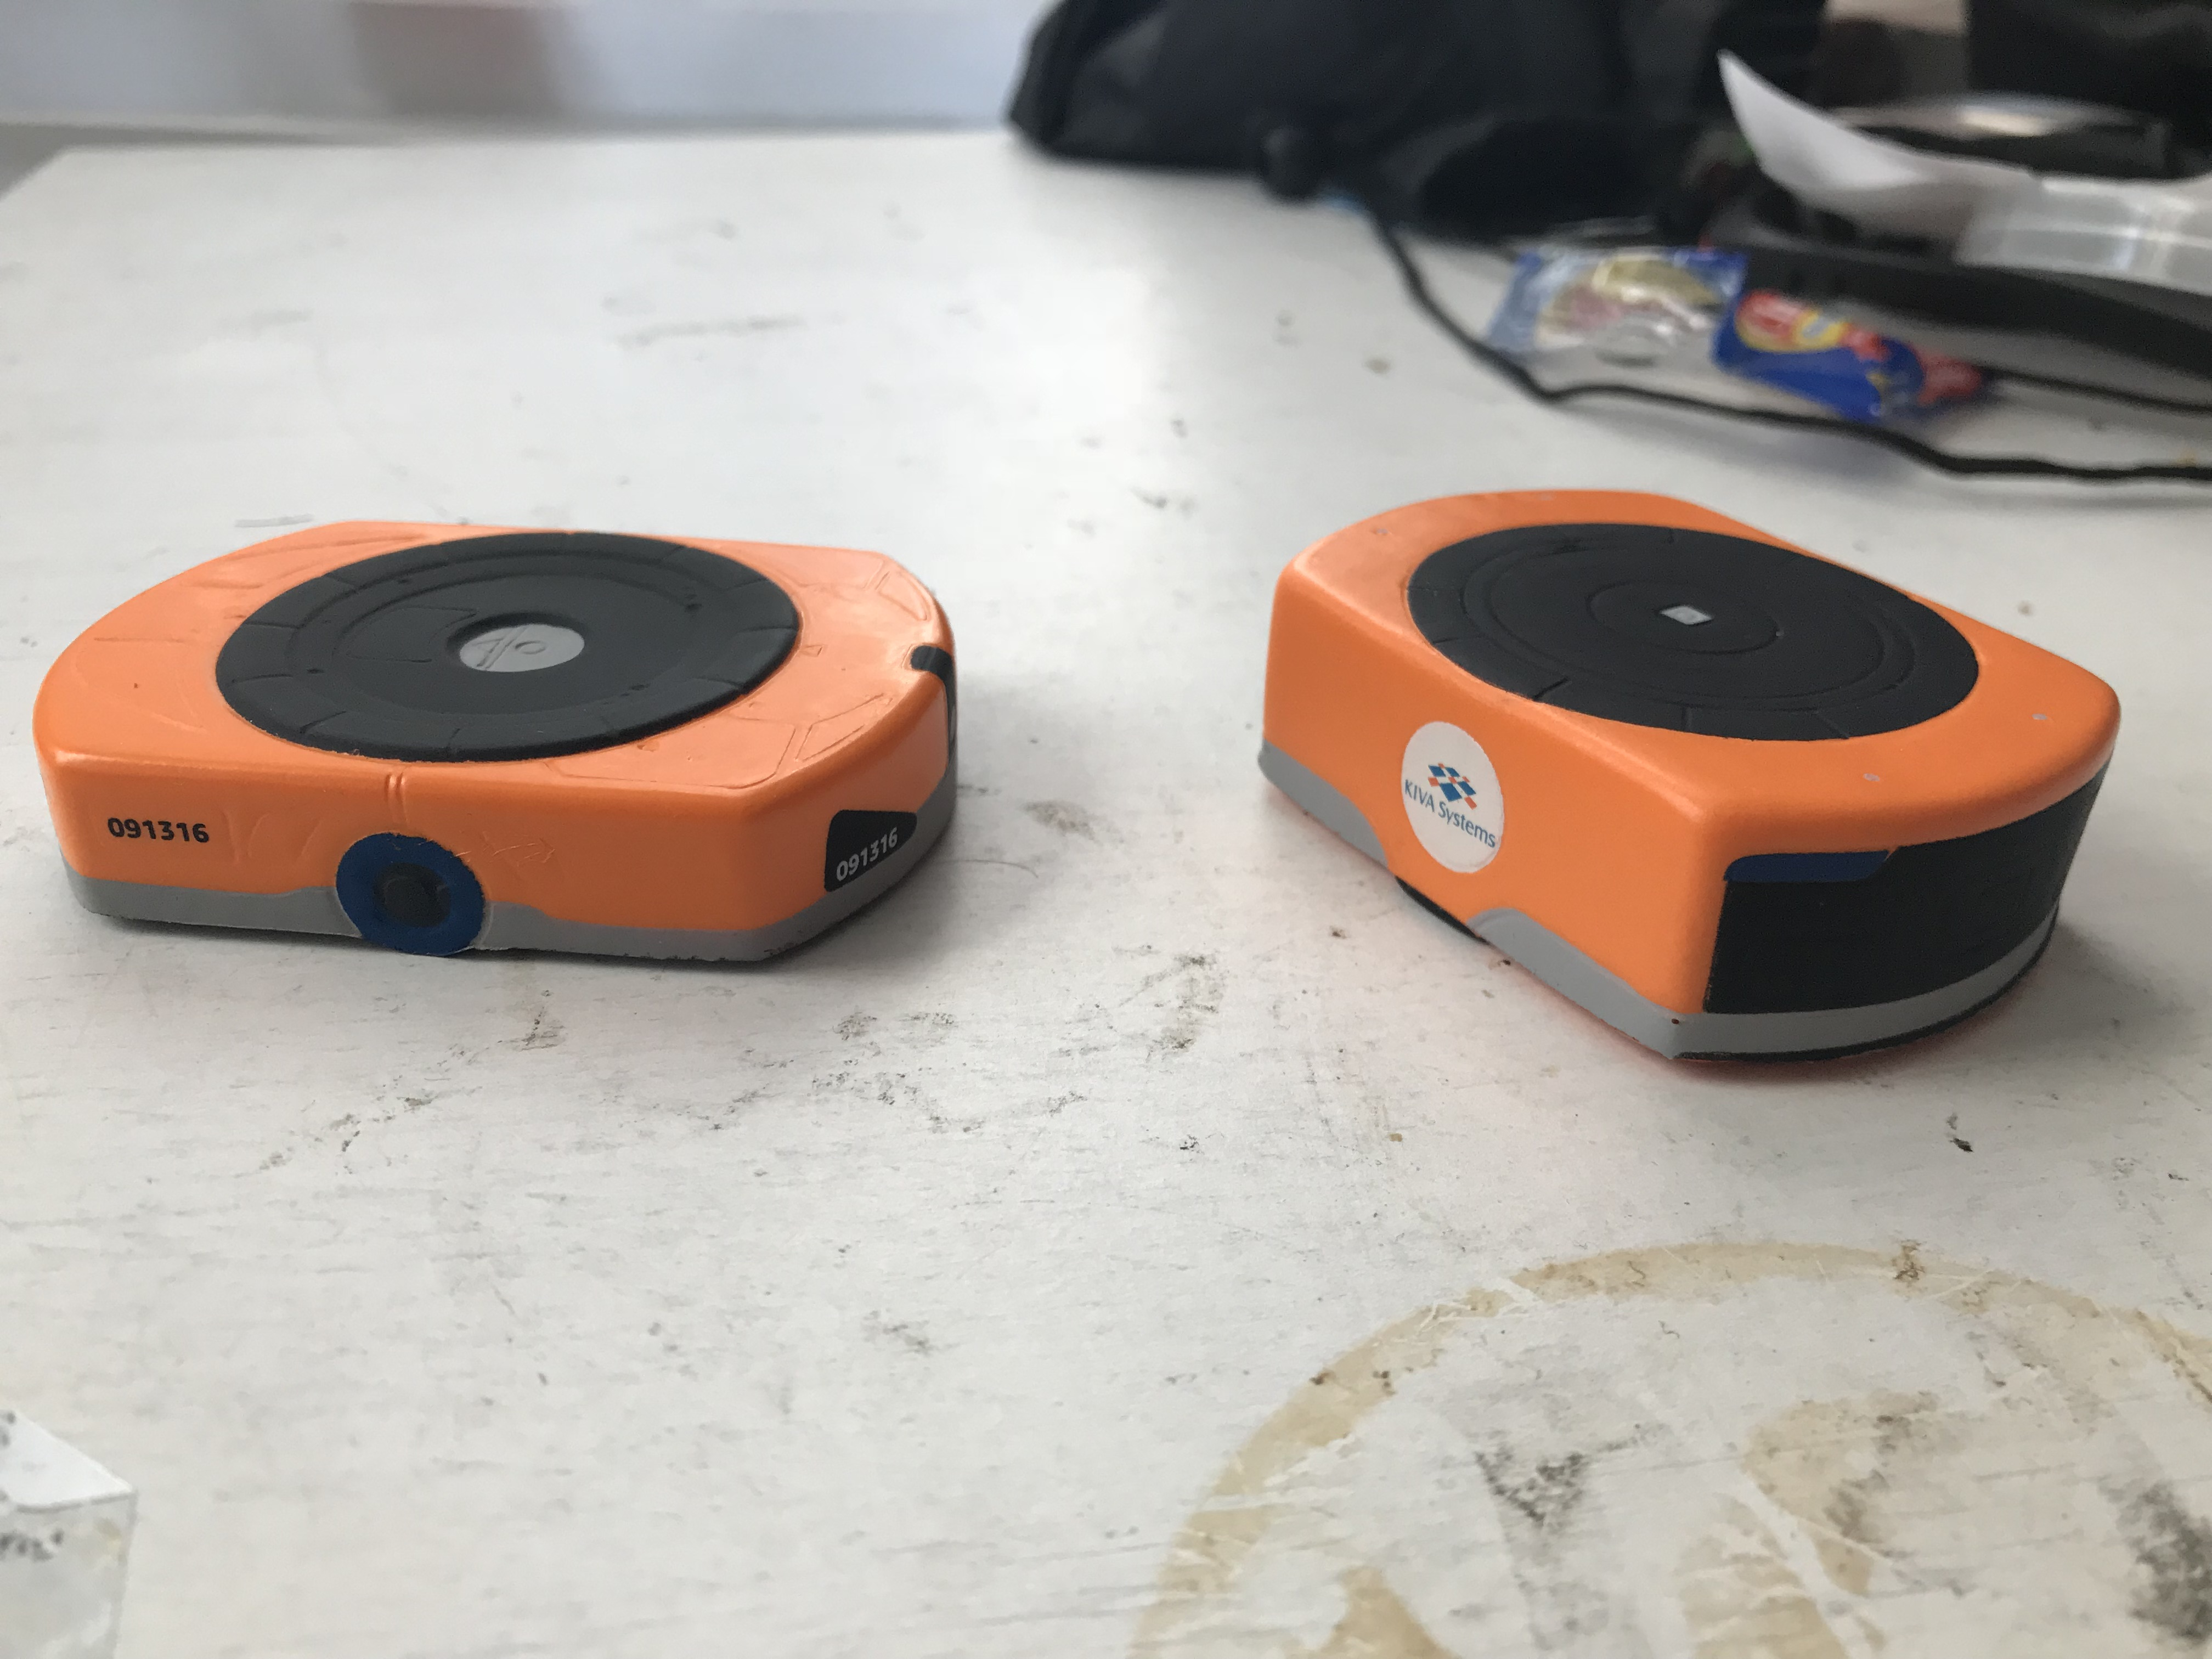amazon_bot: (1240, 453, 2160, 1114), (26, 511, 993, 1004)
